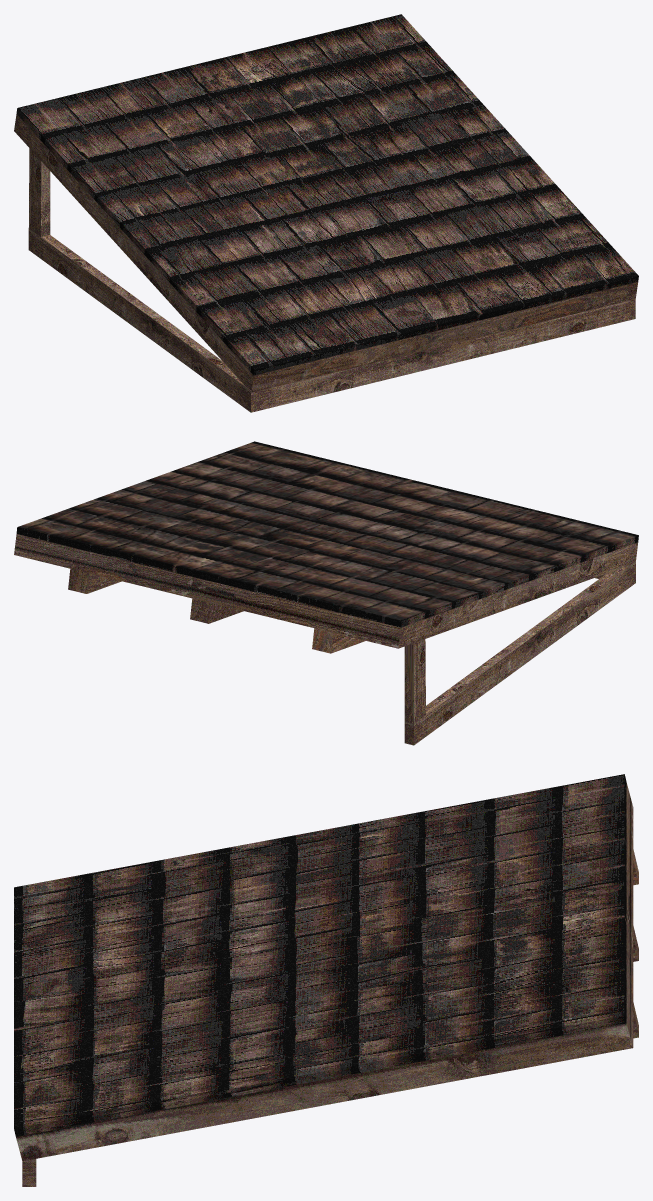
The model's file is porch-roofL.glb.
3 renders of one model, top to bottom at view 1: azimuth 30°, elevation 25°; view 2: azimuth 150°, elevation 25°; view 3: azimuth 270°, elevation 25°, orthographic. The views are drawn at different scales.
Parts seen in each view (by area): view 1: porch-roofL.001; view 2: porch-roofL.001; view 3: porch-roofL.001.
Part boxes in pixels (x1,y1,x2,y2): porch-roofL.001: (14, 14, 638, 412); porch-roofL.001: (14, 441, 638, 745); porch-roofL.001: (14, 774, 638, 1186).
Size of the model in its own units: 2.05 by 0.6786 by 2.24.
2 materials, 2 textured.
